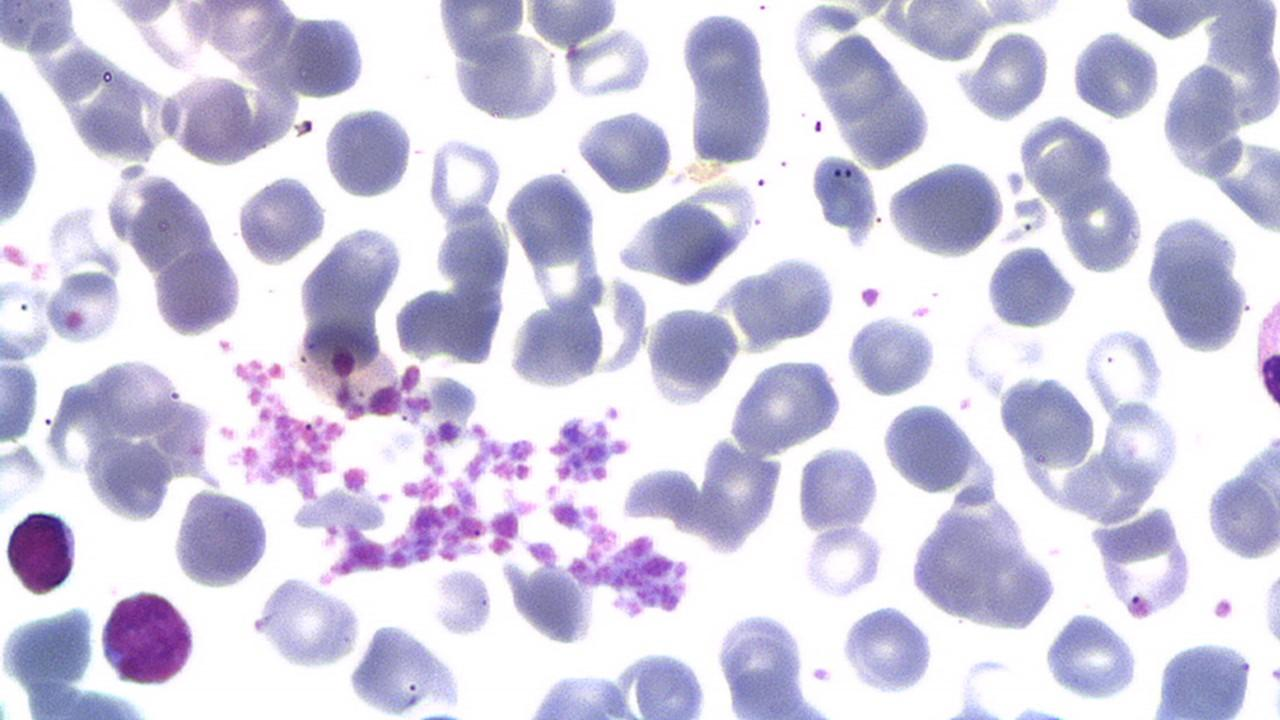Platelets: (1209, 592, 1237, 624), (1006, 705, 1068, 719), (857, 282, 884, 311), (436, 419, 465, 445), (117, 161, 148, 182), (606, 436, 634, 459), (806, 664, 835, 686), (907, 304, 932, 321), (231, 361, 248, 379)
RBC: (40, 350, 220, 526), (906, 484, 1062, 636), (817, 27, 934, 169), (1143, 210, 1251, 355), (436, 9, 568, 126), (620, 185, 758, 287), (518, 648, 722, 716), (884, 159, 1009, 262), (1088, 503, 1196, 619), (727, 354, 847, 457), (344, 621, 465, 716), (249, 574, 362, 674), (504, 297, 614, 399), (170, 485, 275, 591), (1203, 426, 1280, 568), (642, 302, 742, 409), (732, 254, 842, 348), (686, 60, 778, 170), (880, 398, 983, 496), (1143, 639, 1267, 717), (576, 104, 680, 196), (320, 102, 416, 201), (1042, 610, 1144, 703), (840, 602, 936, 698), (956, 28, 1051, 125), (1, 606, 101, 698), (506, 168, 598, 268), (680, 6, 767, 111), (982, 240, 1081, 331), (1057, 173, 1145, 274), (235, 172, 328, 267), (150, 245, 245, 337), (1070, 27, 1160, 123), (1070, 27, 1160, 122), (844, 311, 942, 398), (1098, 395, 1182, 496), (794, 442, 882, 538), (1083, 322, 1167, 422), (285, 9, 368, 102), (0, 67, 46, 232), (809, 150, 882, 247), (562, 26, 656, 99), (426, 133, 503, 222), (798, 524, 887, 600), (790, 0, 866, 88), (122, 0, 213, 73), (44, 266, 123, 348), (1, 275, 57, 362), (0, 0, 86, 56), (523, 1, 621, 50), (431, 569, 496, 639), (0, 354, 41, 446), (1260, 562, 1280, 654)
WBC: (96, 584, 204, 689), (2, 507, 81, 597), (1250, 265, 1280, 437)
